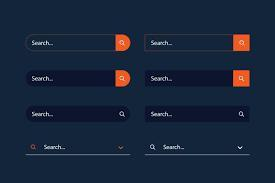icon: (118, 110, 127, 120), (119, 39, 128, 48), (238, 111, 246, 119), (150, 145, 158, 152), (238, 144, 245, 152), (240, 39, 245, 49), (31, 145, 38, 152), (238, 77, 246, 83), (120, 76, 126, 82), (119, 146, 125, 152)
input: (145, 106, 252, 125), (26, 106, 131, 124), (143, 34, 235, 54), (26, 34, 117, 53), (145, 70, 235, 89), (27, 70, 117, 88)
